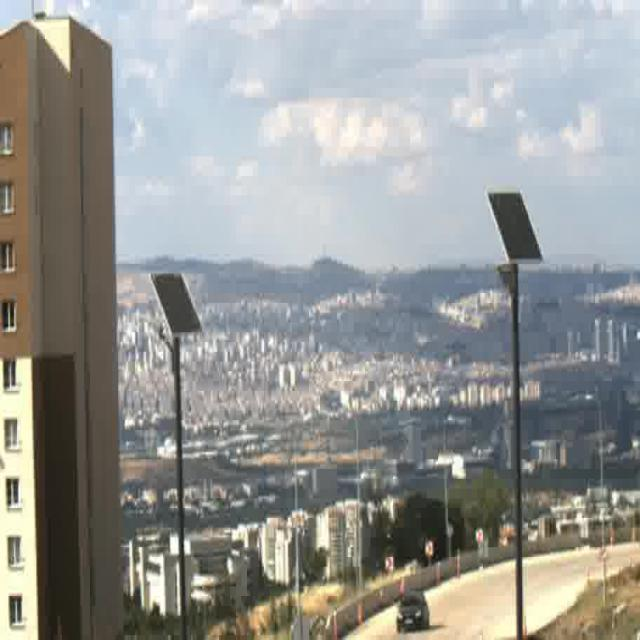Car: (397, 591, 430, 632)
